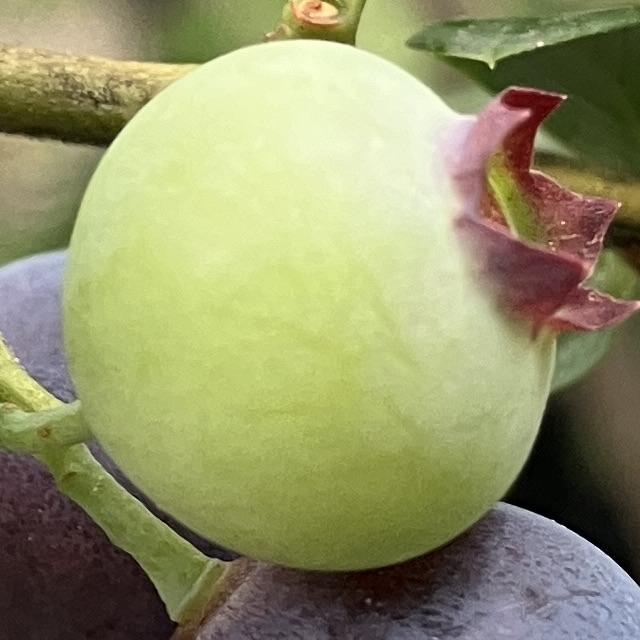Blueberries: (57, 32, 632, 575)
